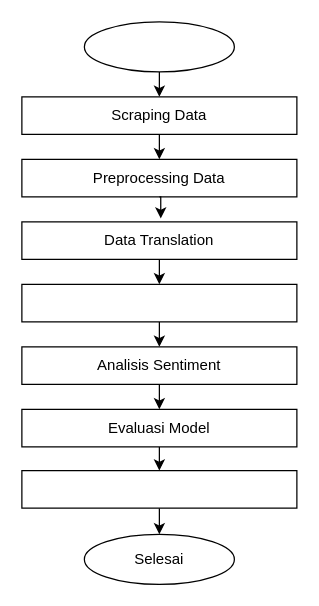
This 319x606 diagram has some shape labels left out. Here are the shapes that lost their labels. From the top down, the centre of each, then its label:
At point (158, 46): "Mulai".
At point (159, 302): "Model Prediksi RoBERTa".
At point (159, 488): "Word Cloud".
